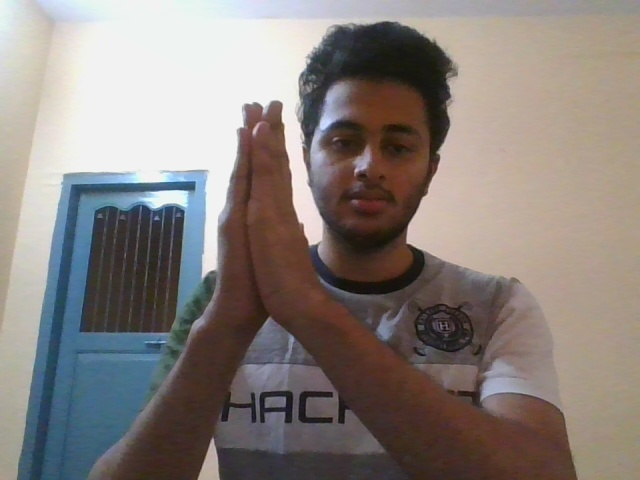Namaskara: (206, 98, 320, 337)
